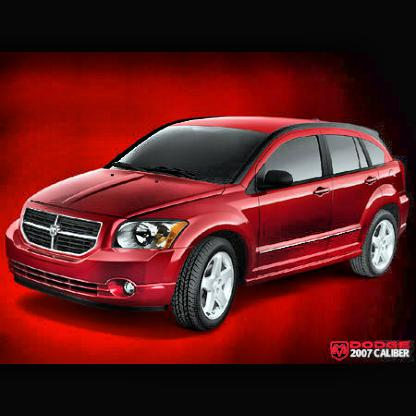Dodge Caliber Wagon 2012: (7, 106, 414, 338)
